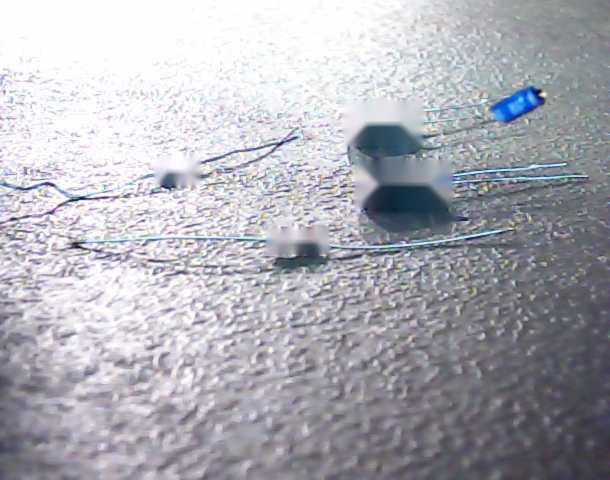capacitor: (489, 86, 547, 125)
